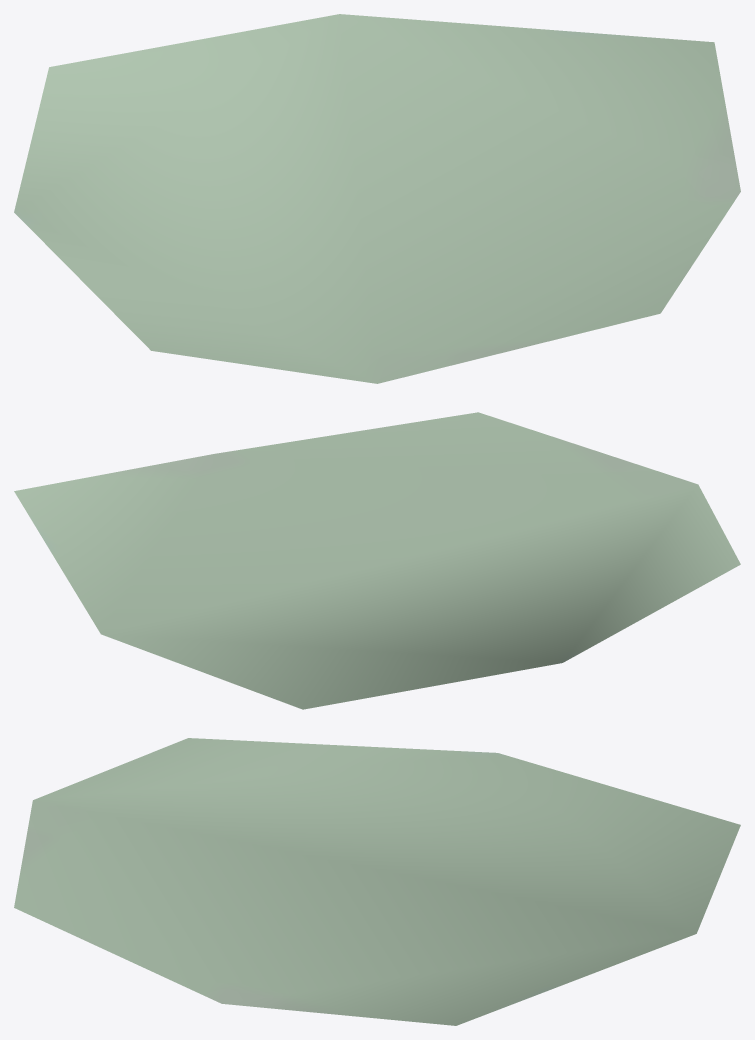
Rendered from TROLLHOLE02_HOLECAP168.fbx.
3 renders of one model, top to bottom at view 1: azimuth 30°, elevation 25°; view 2: azimuth 150°, elevation 25°; view 3: azimuth 270°, elevation 25°, orthographic. The views are drawn at different scales.
Visible parts, largest first — view 1: TROLLHOLE02_HOLECAP168; view 2: TROLLHOLE02_HOLECAP168; view 3: TROLLHOLE02_HOLECAP168.
Part boxes in pixels (x1=…): TROLLHOLE02_HOLECAP168: x1=14, y1=14, x2=740, y2=383; TROLLHOLE02_HOLECAP168: x1=14, y1=412, x2=740, y2=709; TROLLHOLE02_HOLECAP168: x1=14, y1=738, x2=740, y2=1025.
Size of the model in its own units: 24084 by 859 by 23951.
Materials: 1 (1 with a texture image).
